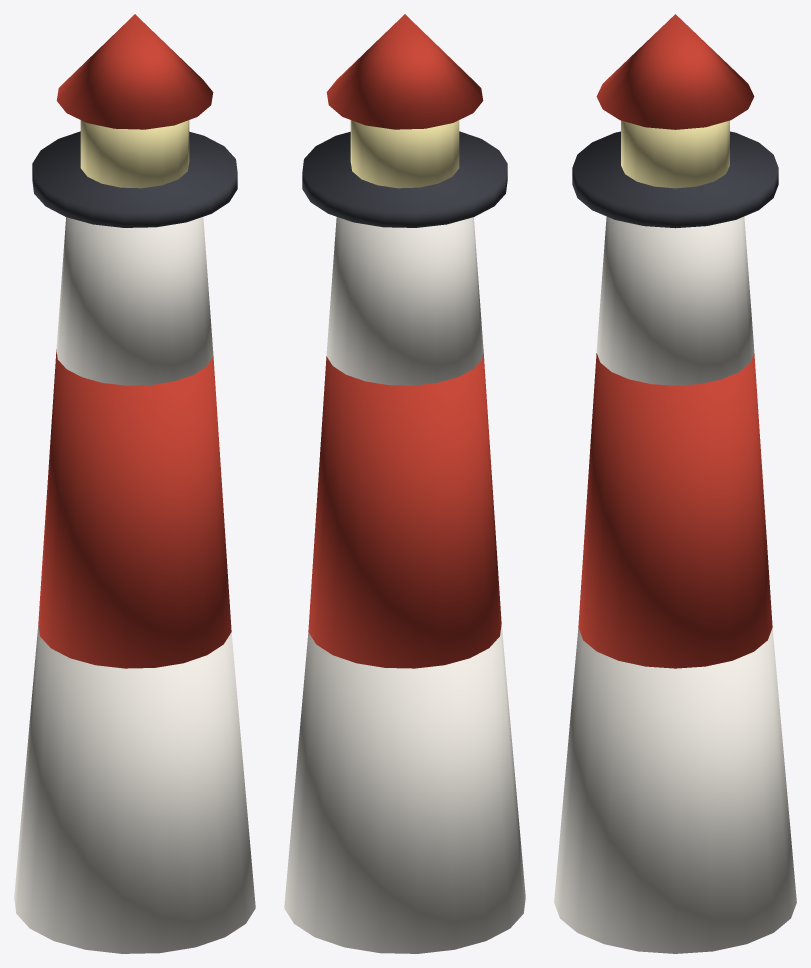
Rendered from lighthouse.glb.
3 views of the same model, side by side, from view 1: azimuth 30°, elevation 25°; view 2: azimuth 150°, elevation 25°; view 3: azimuth 270°, elevation 25° (orthographic).
Visible parts, largest first — view 1: lighthouse; view 2: lighthouse; view 3: lighthouse.
Part boxes in pixels (x1,y1,x2,y2): lighthouse: [14, 14, 255, 953]; lighthouse: [284, 14, 525, 953]; lighthouse: [554, 14, 796, 953].
Bounding box in the file's own units: 4 × 16.15 × 4.
